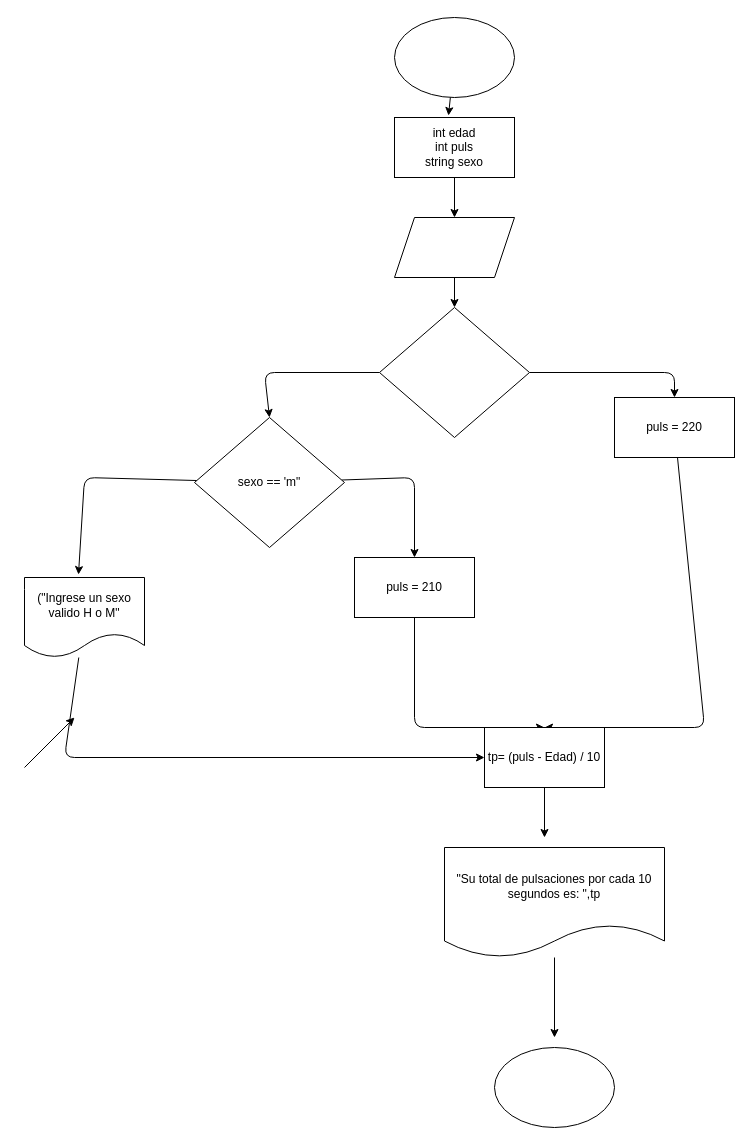
Image size: 752x1145. Some labels were removed from this diagram. The centre of each missing label's shape, as x and y in pixels:
"edad, sexo" goes at point 454,247.
"inicio" goes at point 454,57.
"sexo == 'h'" goes at point 454,372.
